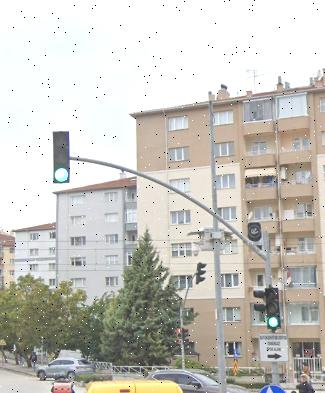greenlight: (52, 130, 70, 183), (264, 287, 282, 330)
